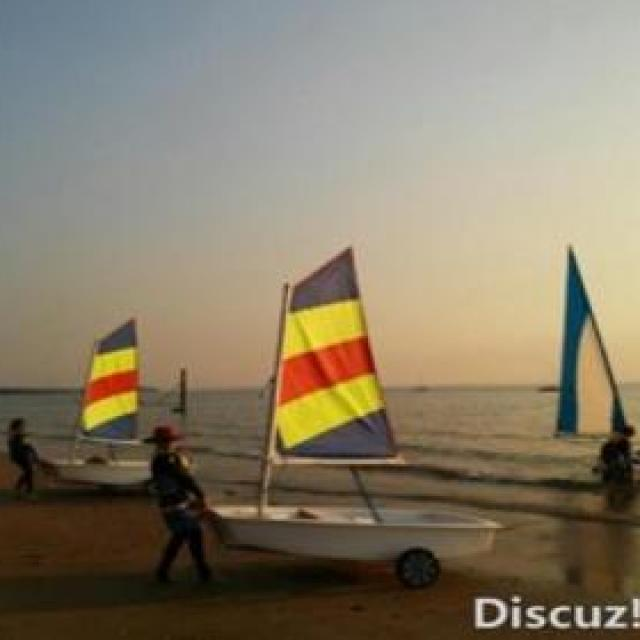sailboat: (204, 266, 497, 572), (13, 289, 183, 488), (541, 235, 640, 475)
